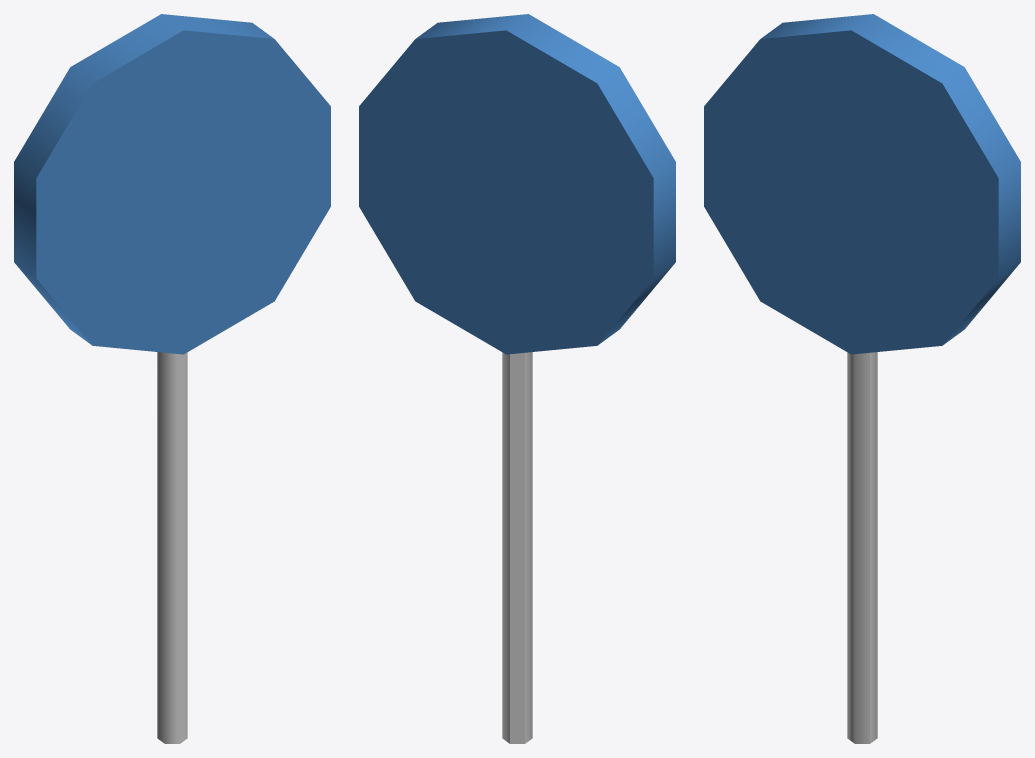
Rendered from Lollipop_02.fbx.
The picture shows the model from 3 angles, left to right: view 1: azimuth 30°, elevation 25°; view 2: azimuth 150°, elevation 25°; view 3: azimuth 330°, elevation 25°; orthographic projection.
Visible parts, largest first — view 1: Lollipop_02; view 2: Lollipop_02; view 3: Lollipop_02.
Part boxes in pixels (x1,y1,x2,y2): Lollipop_02: (14, 14, 330, 743); Lollipop_02: (359, 14, 675, 743); Lollipop_02: (704, 14, 1020, 743).
Bounding box in the file's own units: 0.0656 × 0.1524 × 0.00861.
